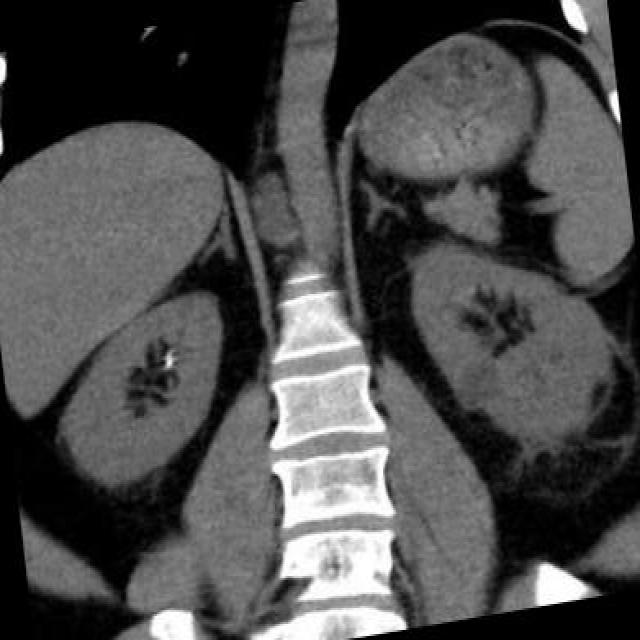Tas_Var: (164, 355, 174, 369)
